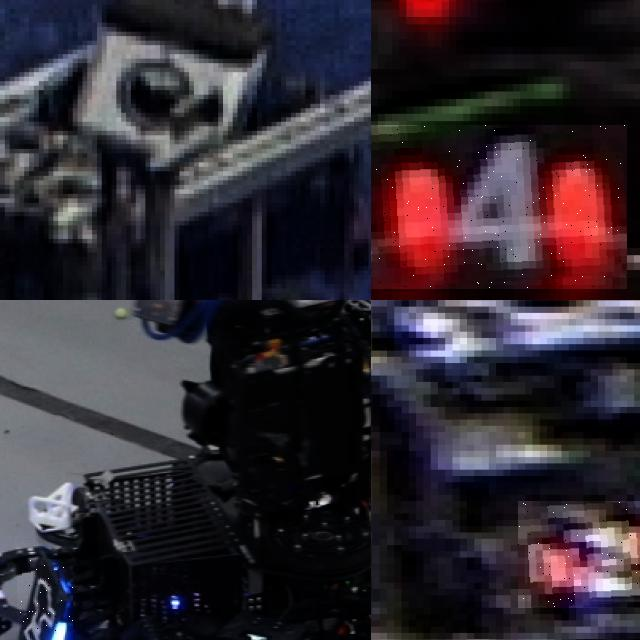Bs: (17, 559, 72, 640)
R2: (517, 501, 640, 607)
R4: (371, 125, 626, 288)
